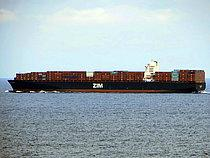Ship: (7, 59, 209, 96)
